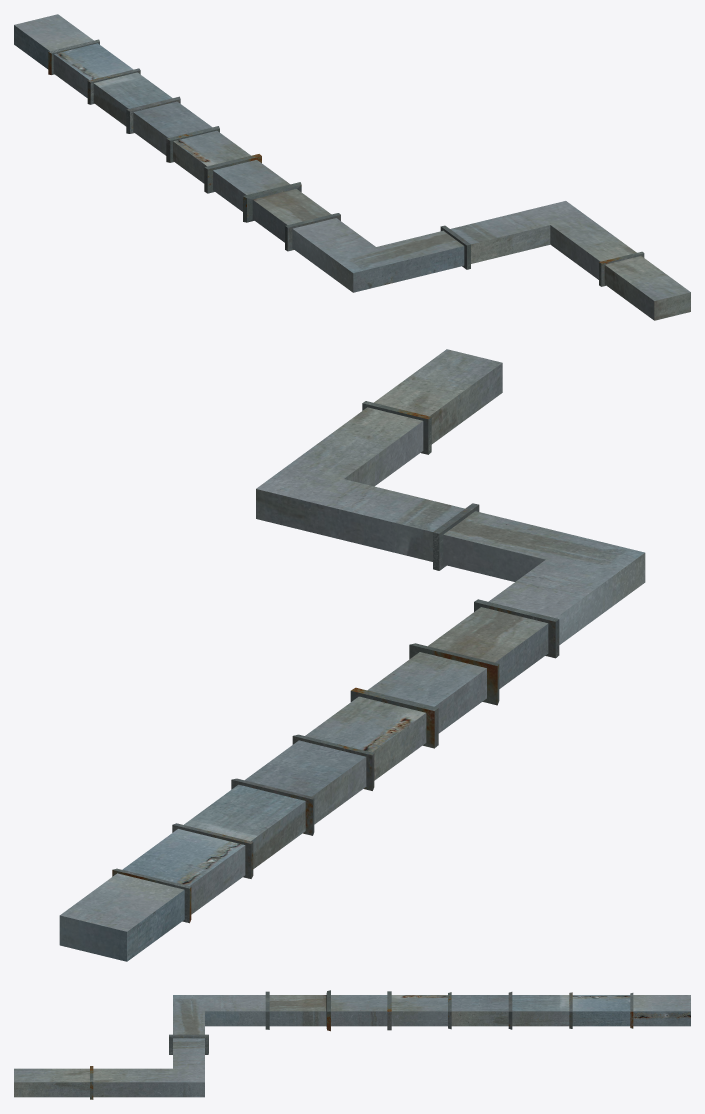
Rendered from VentSytemLong.fbx.
3 renders of one model, top to bottom at view 1: azimuth 30°, elevation 25°; view 2: azimuth 150°, elevation 25°; view 3: azimuth 270°, elevation 25°, orthographic. The views are drawn at different scales.
Parts seen in each view (by area): view 1: VentSystemLong; view 2: VentSystemLong; view 3: VentSystemLong.
Boxes of the visible parts, <box> form: VentSystemLong: <box>14,14,690,320</box>; VentSystemLong: <box>59,349,645,961</box>; VentSystemLong: <box>14,990,690,1099</box>.
Size of the model in its own units: 2.69 by 8.47 by 0.2715.
